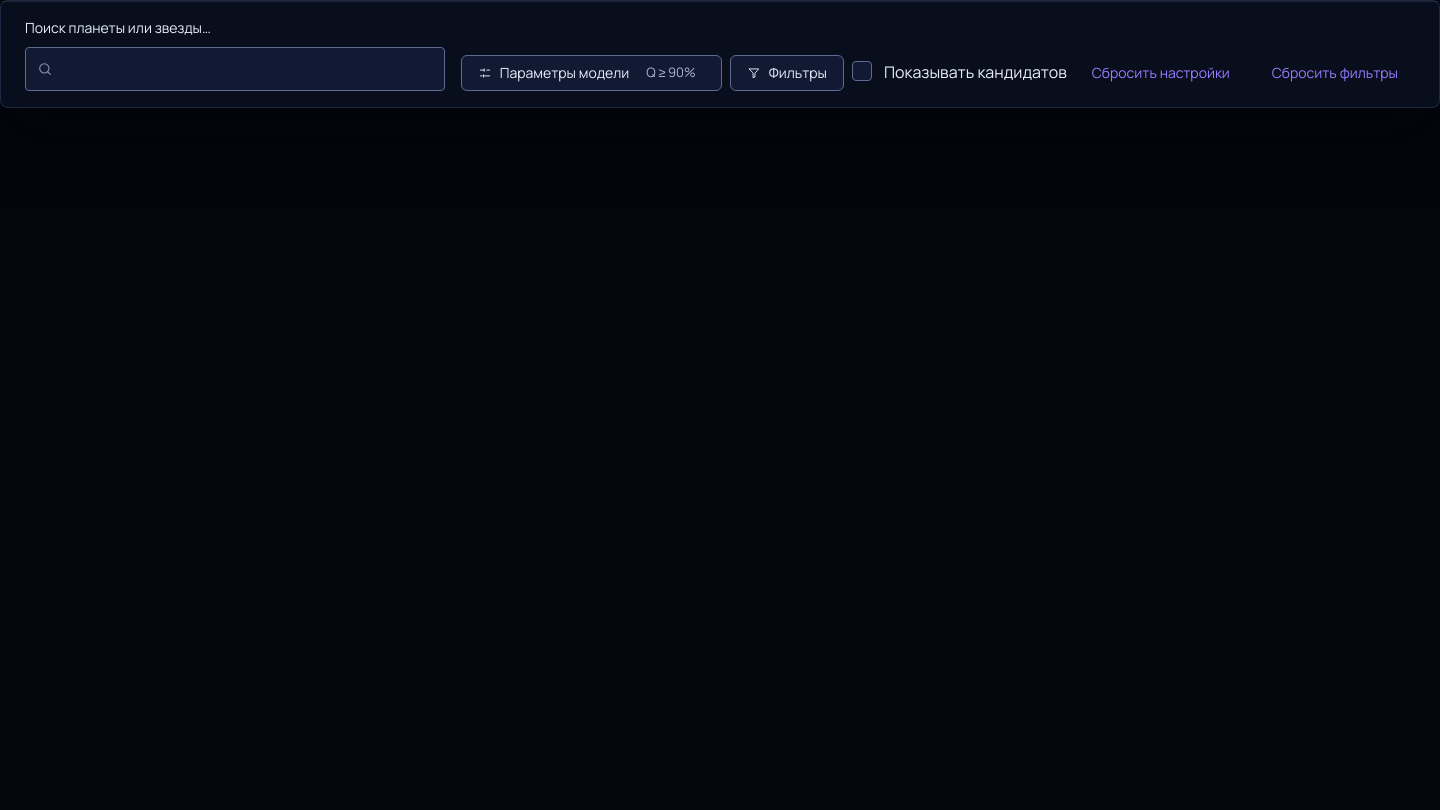
Test: панель «Параметры модели» › «Сбросить настройки» в панели синхронизирует черновик и не меняет режим
This screenshot has width=1440, height=810.
Click the button "Параметры модели Q ≥ 90%": (591, 73) [461,55,722,91]
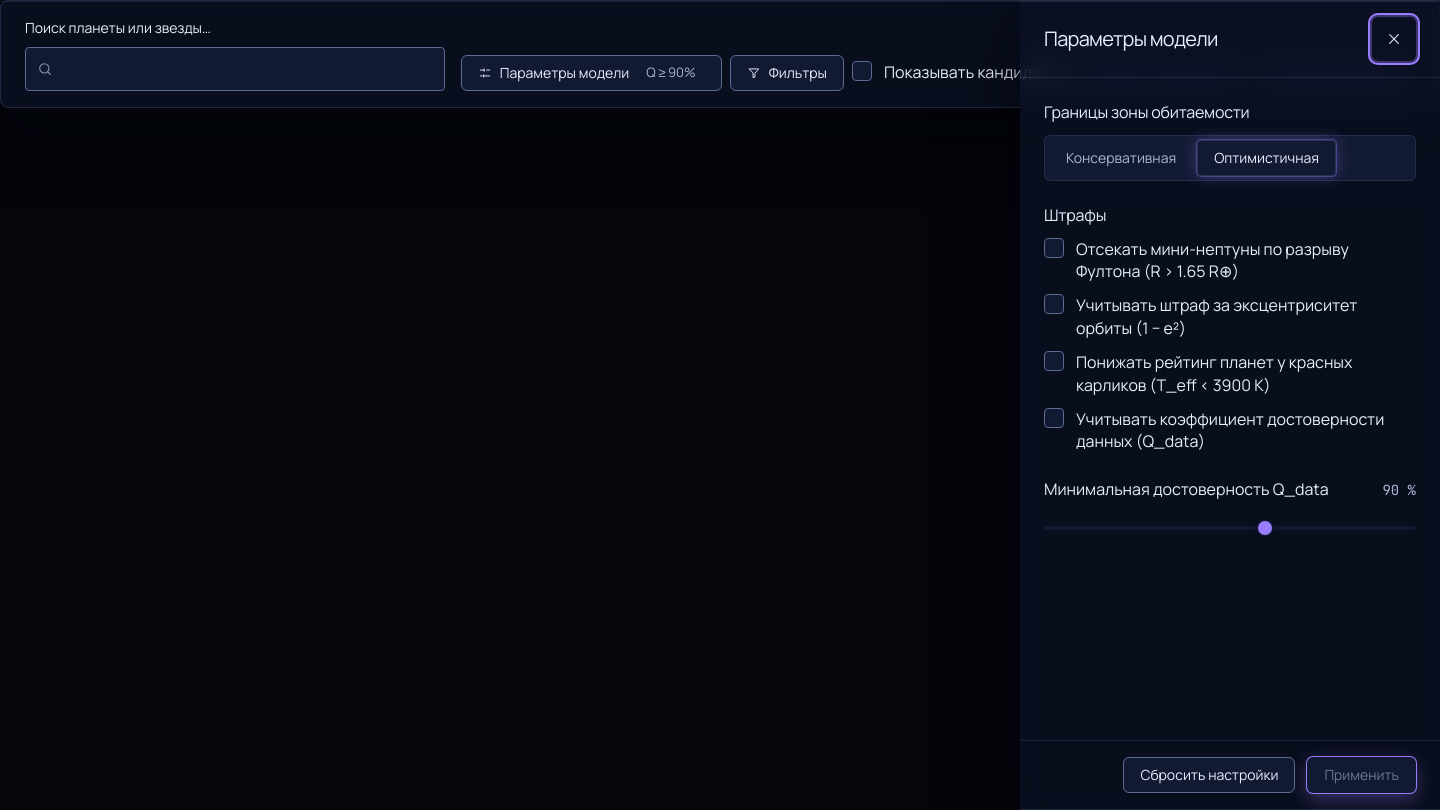
Click the button "Сбросить настройки": (1209, 775) [1123,757,1295,793]
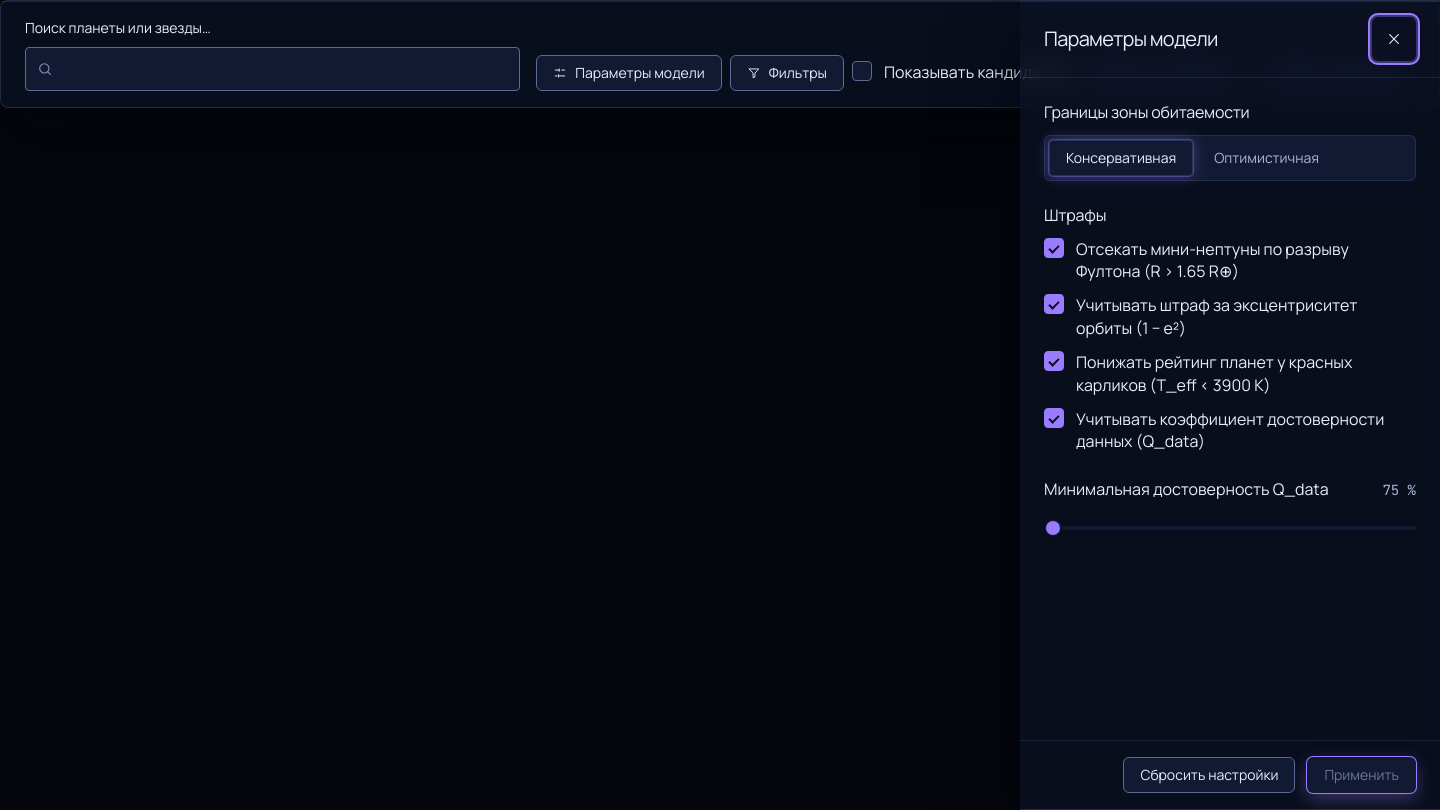
Now the checkbox labelled "Учитывать коэффициент достоверности данных (Q_data)" is checked, box [1044,408,1064,428]
